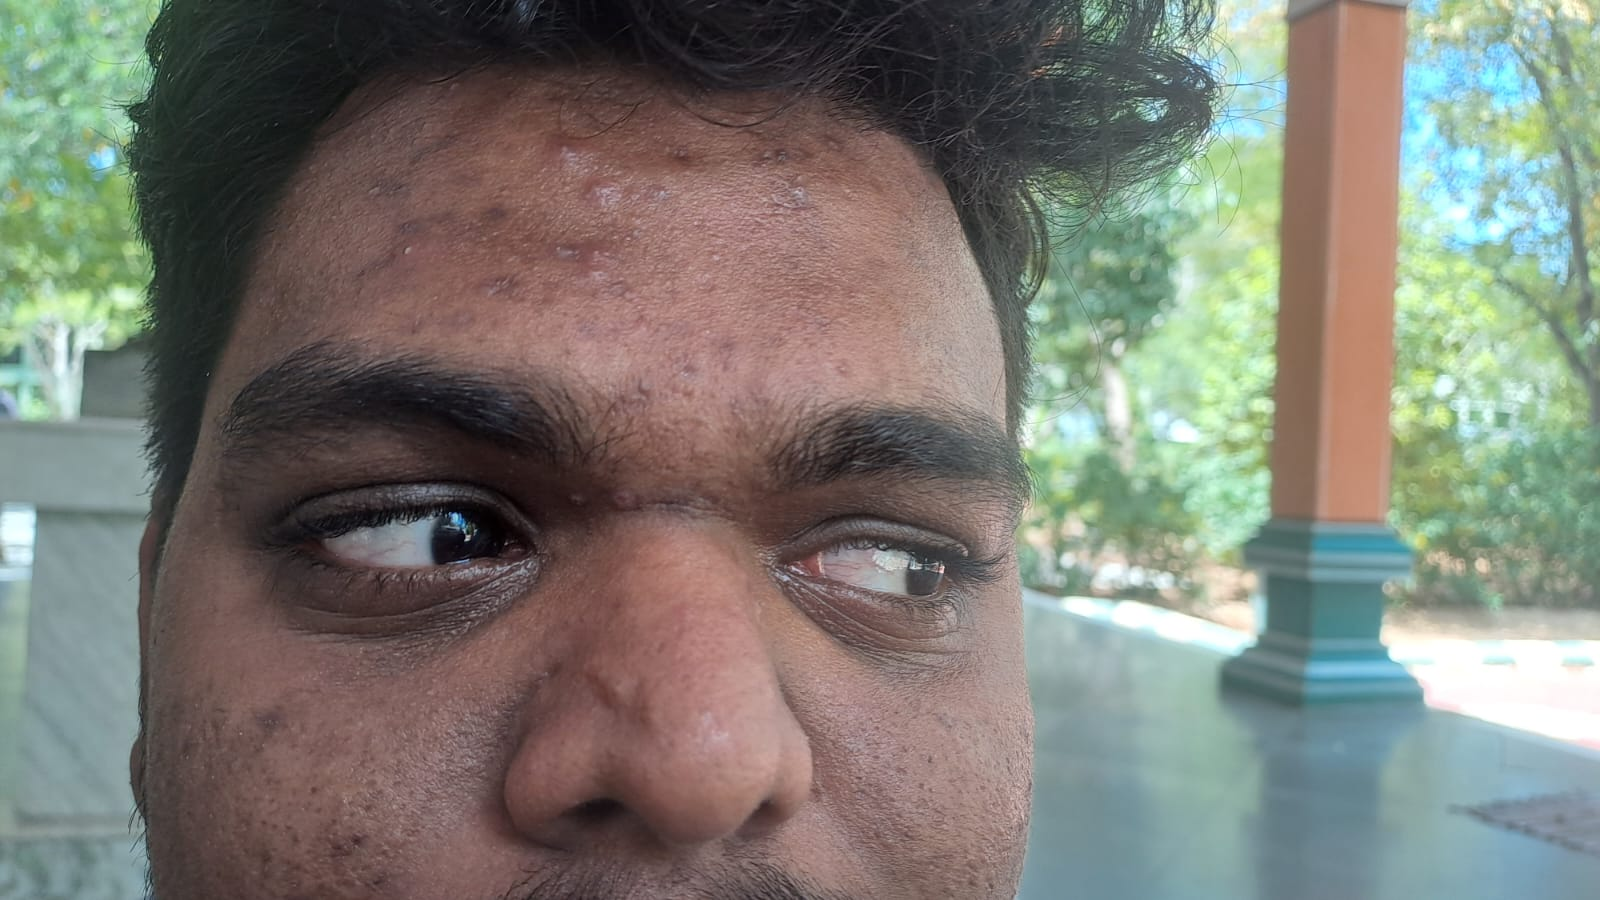EYE LEFT: (164, 316, 673, 710), (729, 316, 1171, 725)
